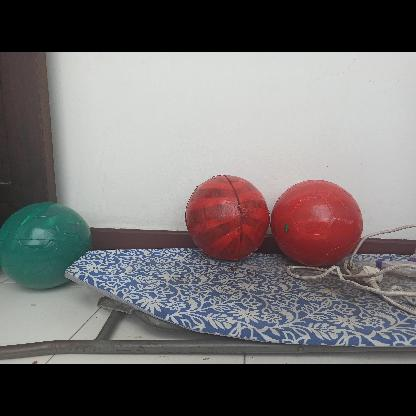red_ball: (271, 178, 359, 266), (185, 175, 269, 259)
